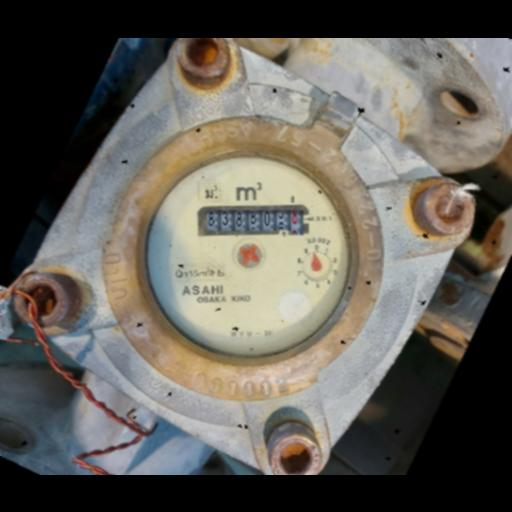0: (263, 209, 273, 229)
3: (221, 210, 231, 230)
6: (277, 209, 287, 229)
8: (206, 210, 218, 230), (291, 210, 300, 235), (249, 209, 259, 229), (236, 210, 245, 230)
border_water_meter_number: (198, 204, 311, 236)
